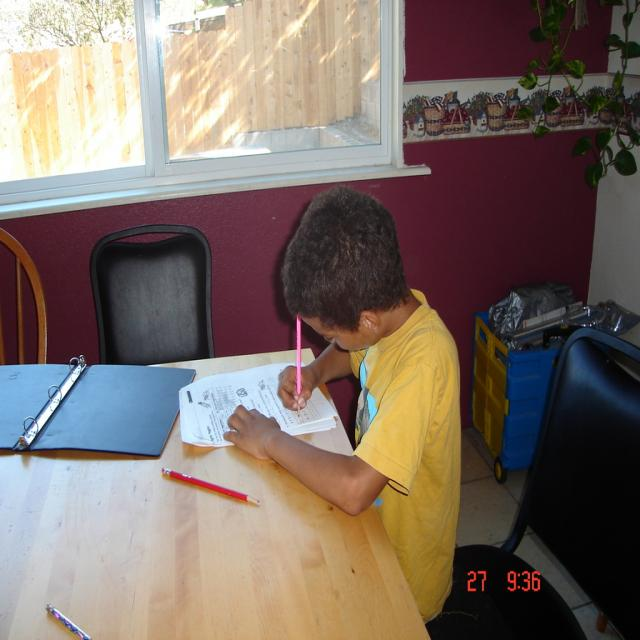chair: (428, 327, 640, 639), (89, 223, 215, 366), (0, 227, 48, 366)
desk: (0, 352, 432, 640)
person: (229, 188, 462, 628)
